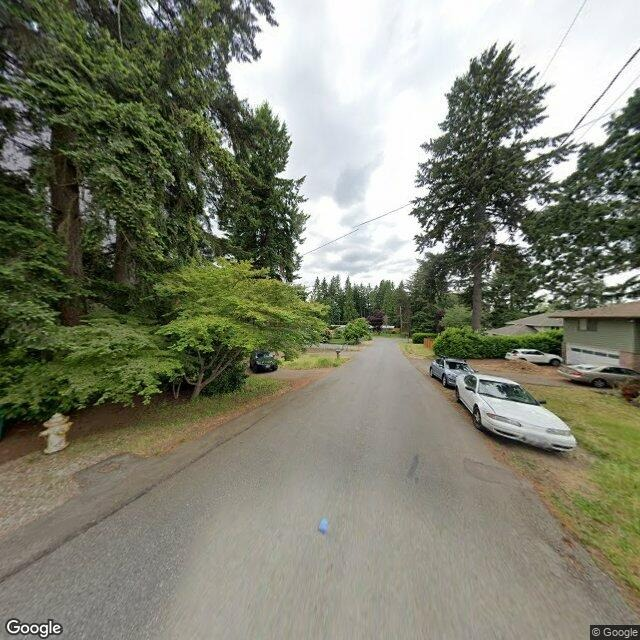hydrant: (29, 408, 79, 454)
